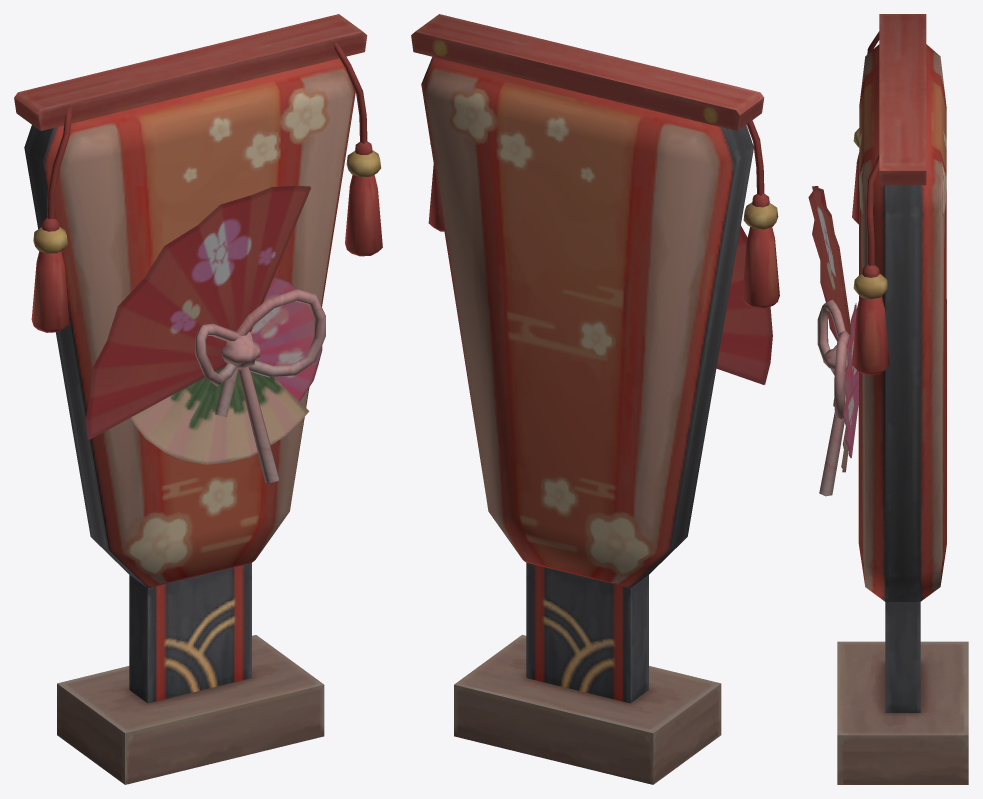
The model's file is Homeworld_Interior_Common_Decoration_Shipin_02_Vo.fbx.
3 renders of one model, left to right at view 1: azimuth 30°, elevation 25°; view 2: azimuth 150°, elevation 25°; view 3: azimuth 270°, elevation 25°, orthographic. The views are drawn at different scales.
Visible parts, largest first — view 1: Homeworld_Interior_Common_Decoration_Shipin_02_Vo; view 2: Homeworld_Interior_Common_Decoration_Shipin_02_Vo; view 3: Homeworld_Interior_Common_Decoration_Shipin_02_Vo.
Part boxes in pixels (x1=…): Homeworld_Interior_Common_Decoration_Shipin_02_Vo: x1=14, y1=14, x2=382, y2=784; Homeworld_Interior_Common_Decoration_Shipin_02_Vo: x1=411, y1=14, x2=779, y2=784; Homeworld_Interior_Common_Decoration_Shipin_02_Vo: x1=808, y1=14, x2=968, y2=784.
Bounding box in the file's own units: 0.3515 × 0.6514 × 0.1457.
1 material, 1 textured.
